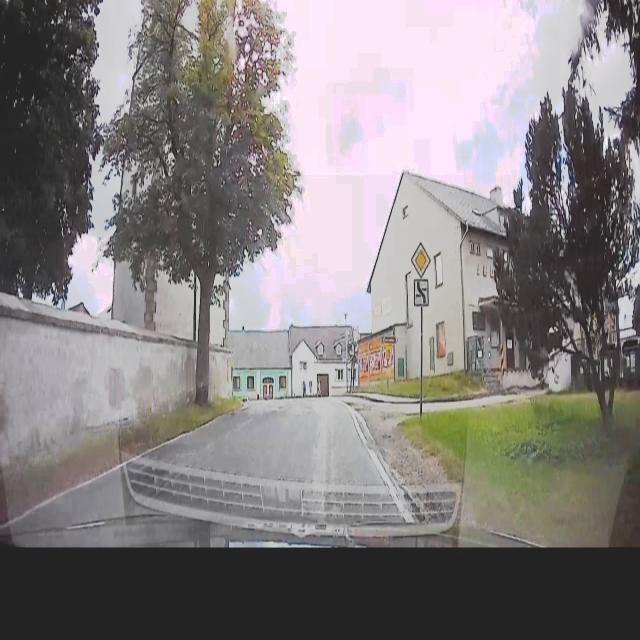Priority road: (410, 236, 432, 278)
